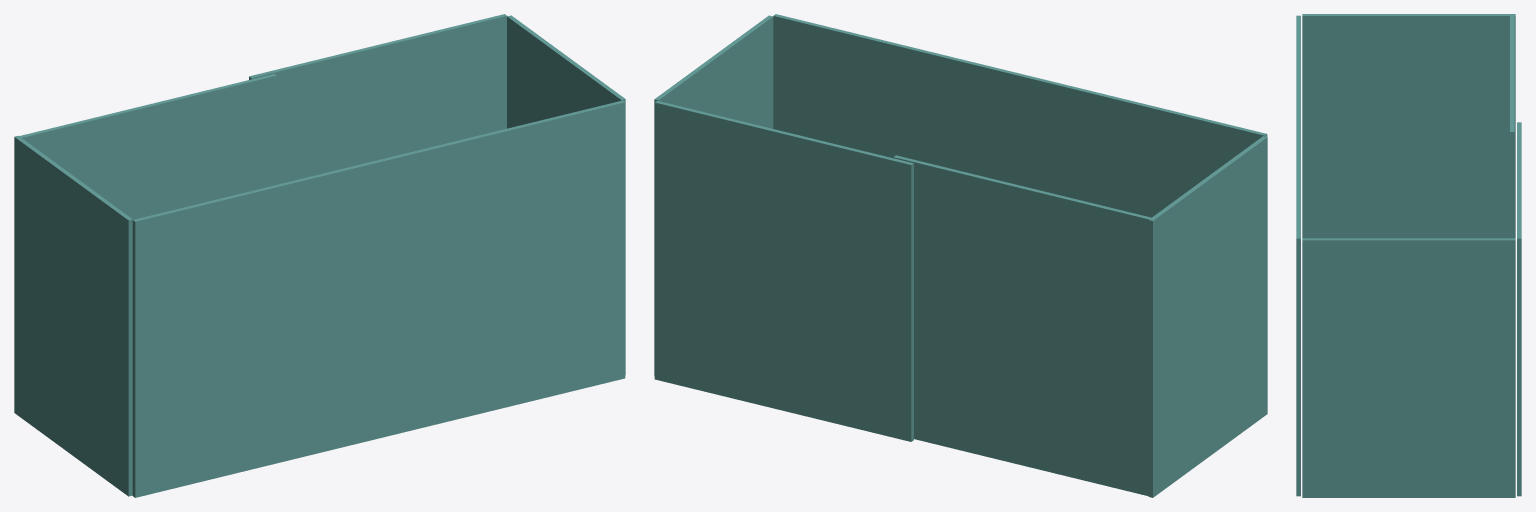
Rendered from SM_Cart_Glass_01.fbx.
The picture shows the model from 3 angles, left to right: view 1: azimuth 30°, elevation 25°; view 2: azimuth 150°, elevation 25°; view 3: azimuth 270°, elevation 25°; orthographic projection. The views are drawn at different scales.
Parts seen in each view (by area): view 1: SM_Cart_Glass_01; view 2: SM_Cart_Glass_01; view 3: SM_Cart_Glass_01.
Boxes of the visible parts, x1,y1,x2,y2 form: SM_Cart_Glass_01: (14, 14, 625, 497); SM_Cart_Glass_01: (654, 14, 1267, 497); SM_Cart_Glass_01: (1296, 14, 1521, 497).
Bounding box in the file's own units: 1.38 × 0.734 × 0.581.
Materials: 1 (1 with a texture image).
